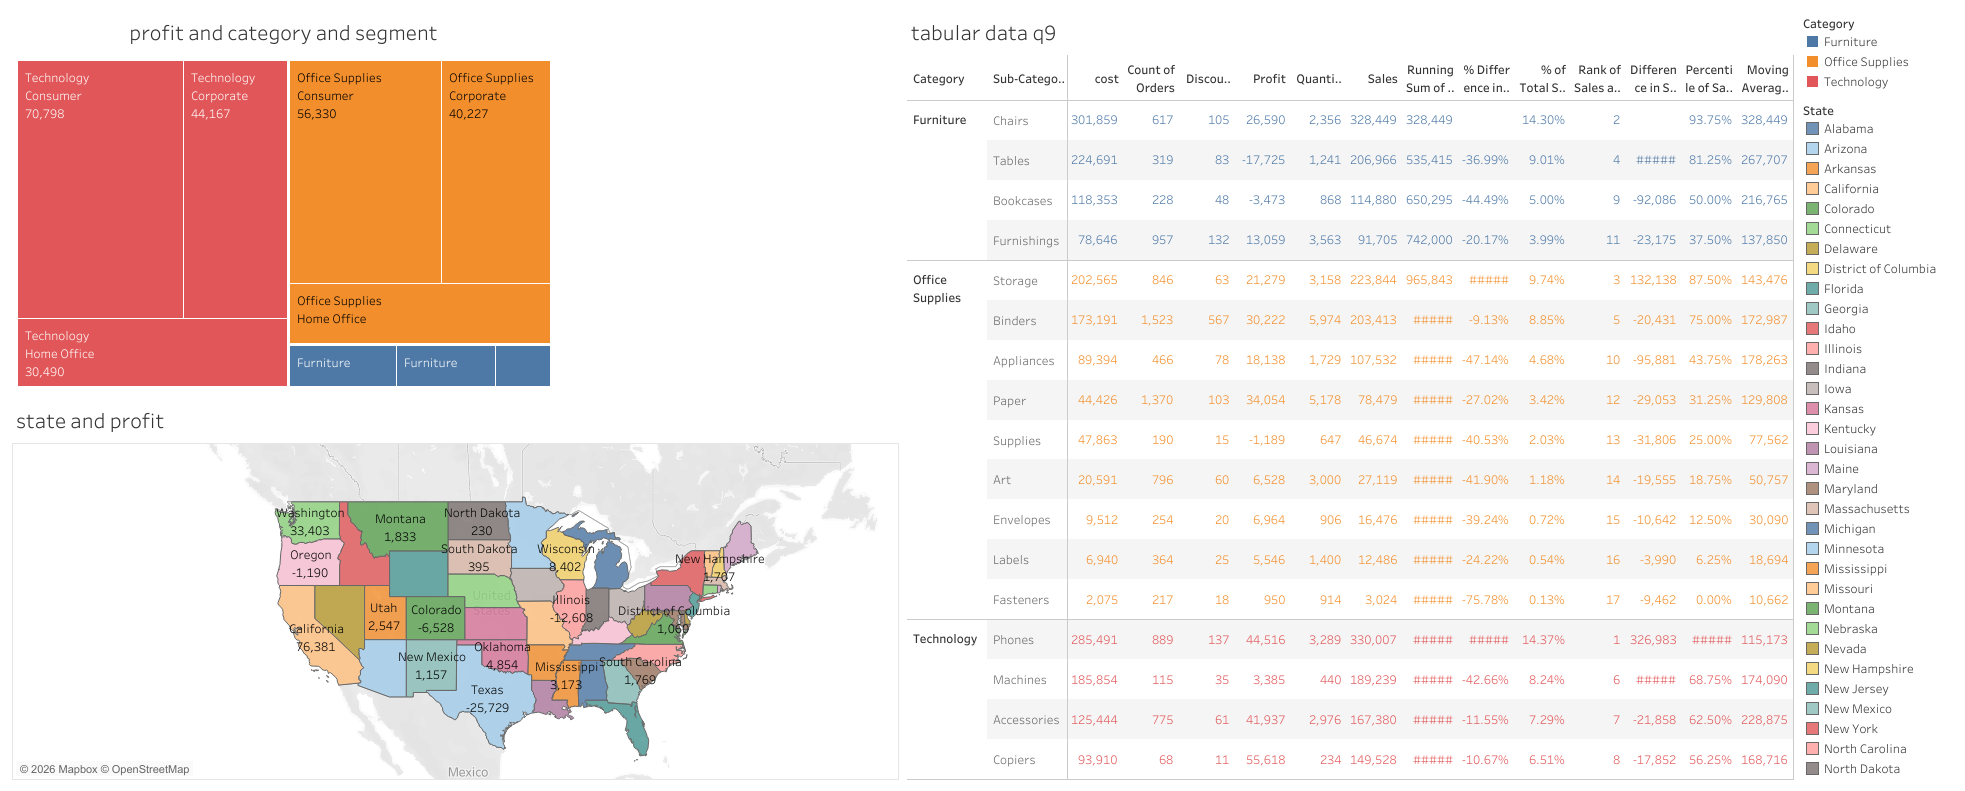

Layout of this report page (visuals, bound fields, positions):
{"tool":"tableau","page":{"name":"Dashboard 2","canvas":[1000,1000],"units":"permille","ordinal":1},"visuals":[{"type":"worksheet","title":"tree chart q2","mark":"Automatic","box":[6,11.8,433.6,488.2]},{"type":"worksheet","title":"tabular data q9","mark":"Automatic","rows":["Category","Sub-Category"],"box":[439.6,11.8,433.6,976.4]},{"type":"legend","title":"tree chart q2","param":"[federated.1bivvwv1tcjspc14eqmjx1nbz0v1].[none:Category:nk]","box":[873.2,11.8,120.8,126.7]},{"type":"legend","title":"world map q4","param":"[federated.1bivvwv1tcjspc14eqmjx1nbz0v1].[none:State:nk]","box":[873.2,138.4,120.8,849.8]},{"type":"worksheet","title":"world map q4","mark":"Multipolygon","box":[6,500,433.6,488.2]}]}

Visuals, with their boxes on the dashboard's canvas, which has no fixed pixel size, in thousandths of its width and height (x1, y1, x2, y2). These are canvas units, not pixel positions in the 1965x791 screenshot, which may show the page scaled, cropped or inside an application window:
"tree chart q2" worksheet: 6, 12, 440, 500
"tabular data q9" worksheet: 440, 12, 873, 988
"tree chart q2" legend: 873, 12, 994, 138
"world map q4" legend: 873, 138, 994, 988
"world map q4" worksheet (Multipolygon marks): 6, 500, 440, 988
